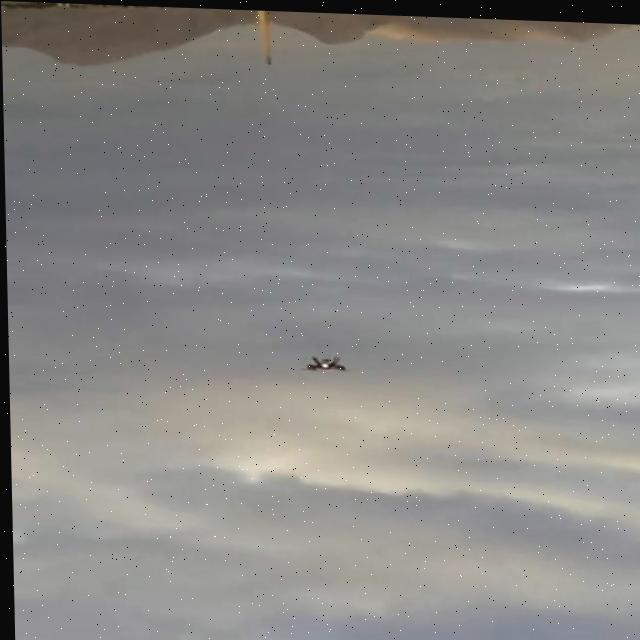drone: (294, 349, 350, 373)
